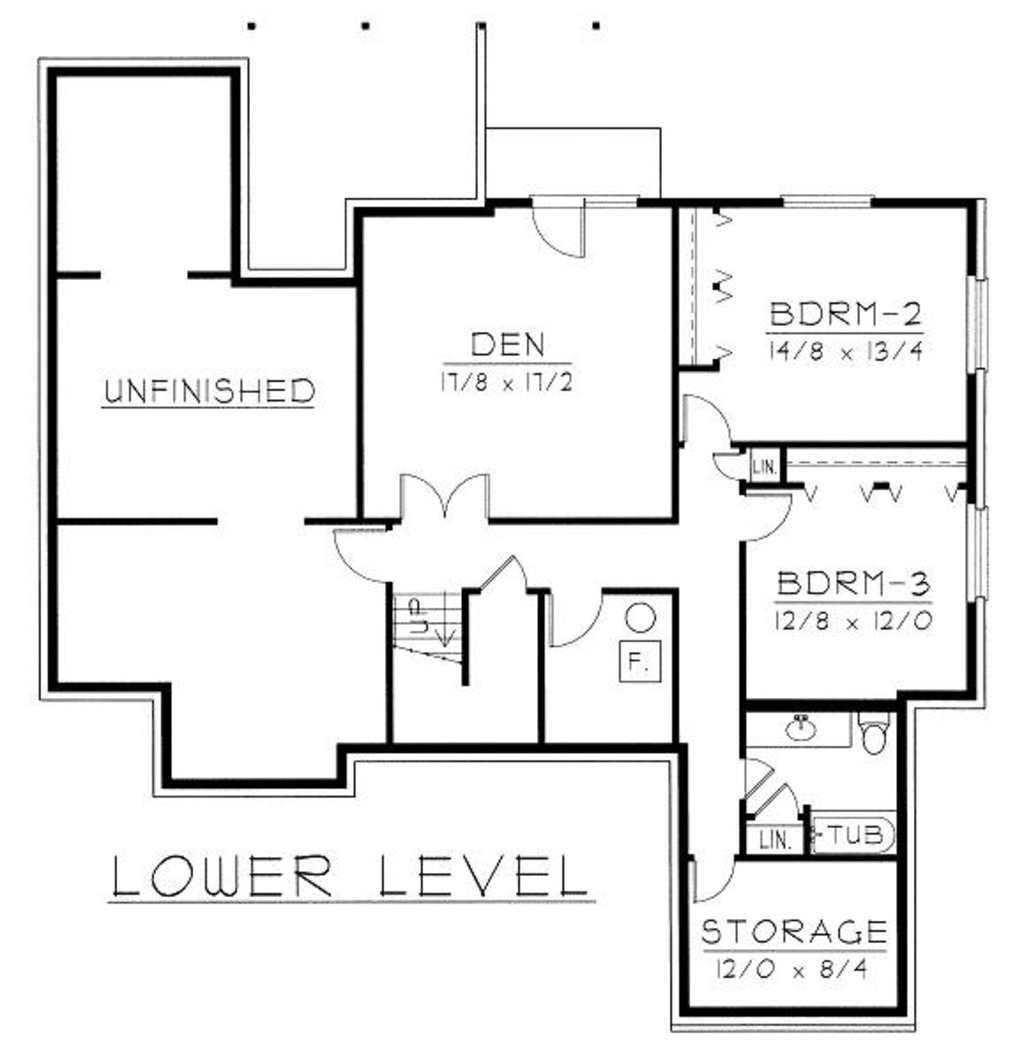door: (397, 462, 490, 524), (523, 185, 590, 266), (549, 588, 631, 648), (330, 519, 400, 588), (677, 389, 748, 455), (674, 847, 738, 912), (469, 552, 541, 598), (743, 776, 810, 822), (746, 483, 800, 540), (705, 439, 759, 486), (731, 750, 772, 798)
large_sink: (843, 703, 899, 762)
small_sink: (746, 716, 846, 744)
stairs: (389, 576, 467, 678)
tub: (810, 809, 897, 862)
window: (961, 253, 992, 381), (969, 507, 995, 609), (782, 188, 874, 209)
